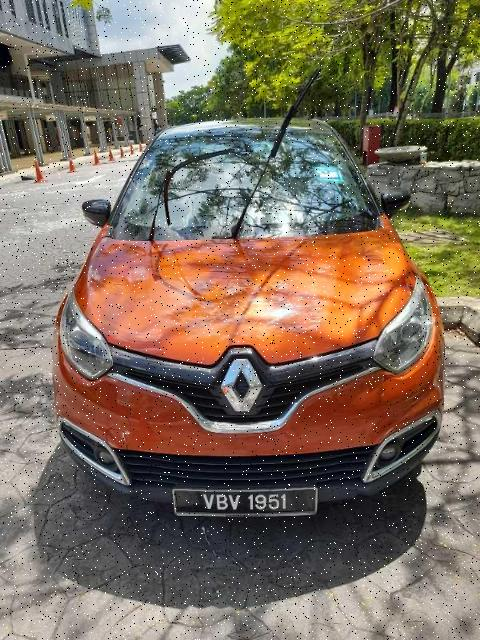License_Plate: (171, 487, 319, 519)
car: (52, 115, 447, 520)
